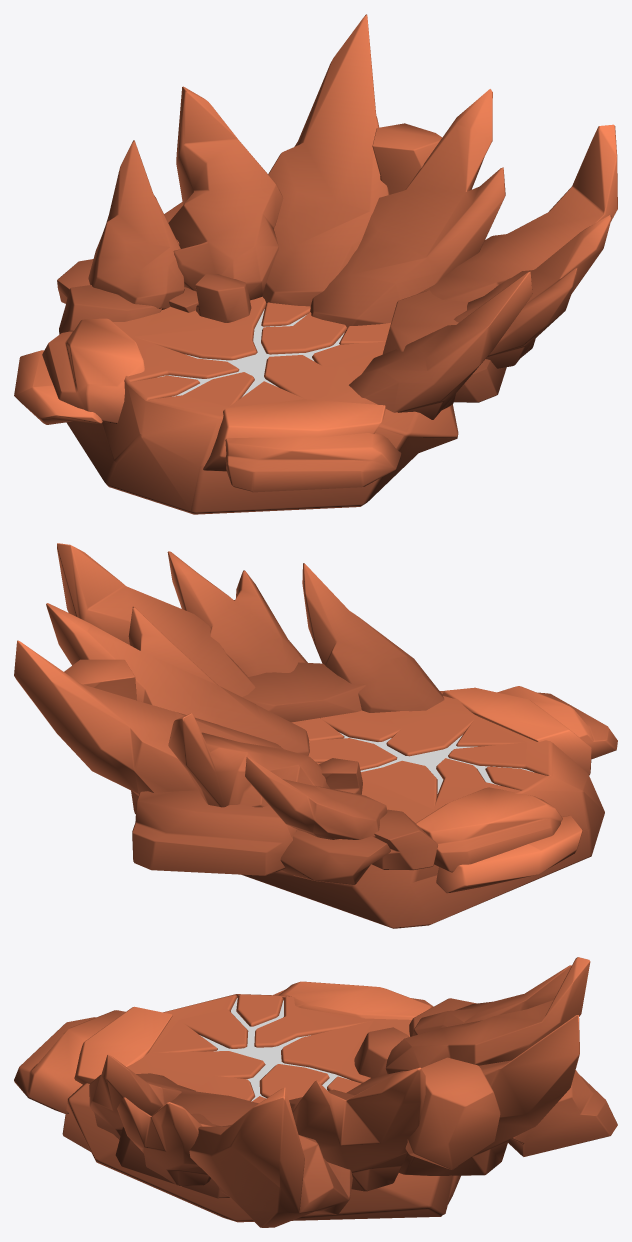
Rendered from AngryCavesLight.fbx.
3 views of the same model, one above another, from view 1: azimuth 30°, elevation 25°; view 2: azimuth 150°, elevation 25°; view 3: azimuth 270°, elevation 25° (orthographic). The views are drawn at different scales.
Visible parts, largest first — view 1: Rock2.012, Rock2.003, Rock2.016, Rock2.018, Rock2.011; view 2: Rock2.012, Rock2.003, Rock2.018, Rock2.016, Rock2.011; view 3: Rock2.012, Rock2.003, Rock2.016, Rock2.018, Rock2.011.
Part boxes in pixels (x1,y1,x2,y2): Rock2.012: (57, 14, 617, 419); Rock2.003: (66, 296, 458, 514); Rock2.016: (203, 399, 401, 492); Rock2.018: (14, 318, 144, 424); Rock2.011: (158, 309, 344, 396); Rock2.012: (14, 543, 444, 885); Rock2.003: (241, 691, 604, 928); Rock2.018: (416, 787, 582, 893); Rock2.016: (442, 686, 617, 775); Rock2.011: (339, 732, 533, 793); Rock2.012: (89, 957, 617, 1227); Rock2.003: (62, 994, 460, 1222); Rock2.016: (14, 1006, 172, 1114); Rock2.018: (273, 981, 433, 1019); Rock2.011: (200, 998, 349, 1101).
Bounding box in the file's own units: 641 × 268 × 589.
